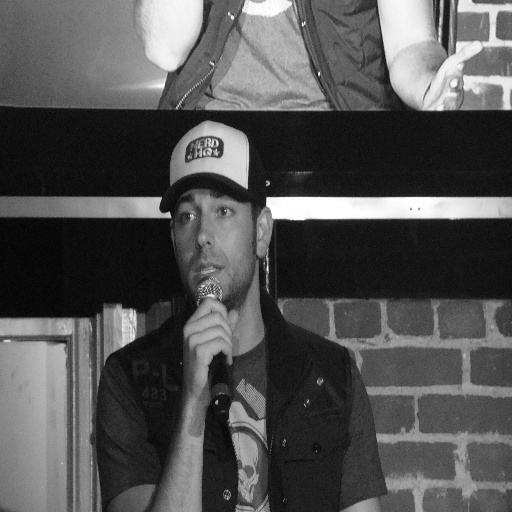hand: (170, 291, 238, 429), (419, 36, 483, 112)
